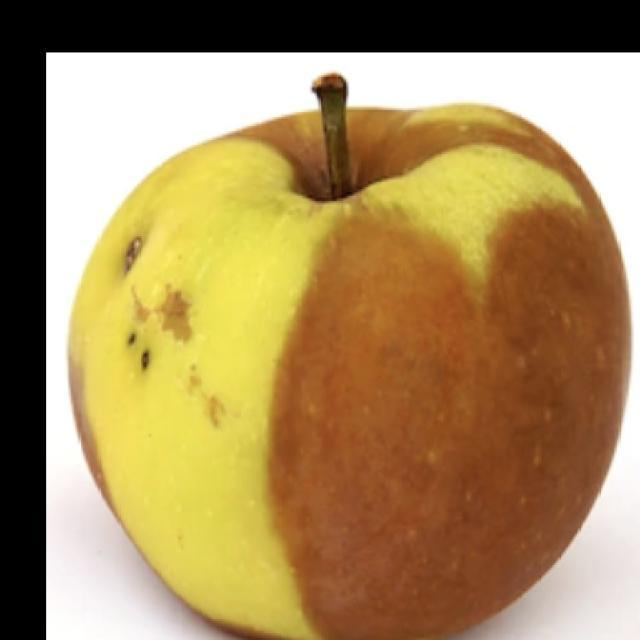Rotten: (73, 105, 640, 640)
